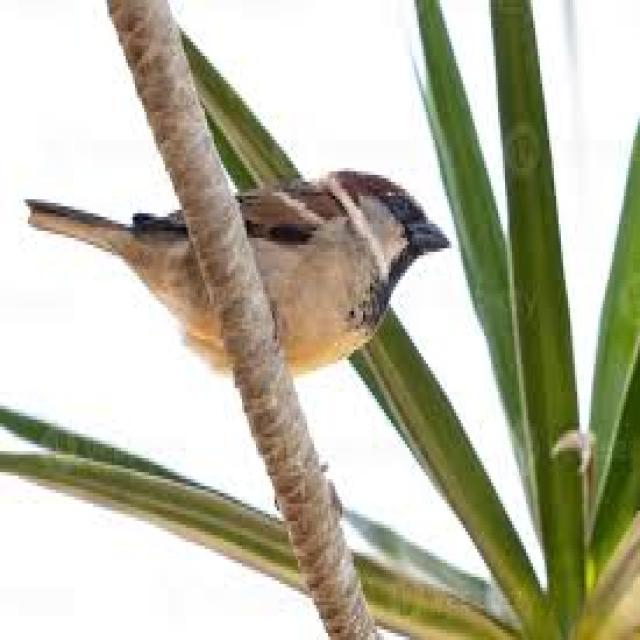bird: (27, 171, 461, 387)
